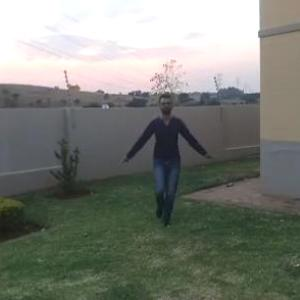land: (124, 97, 209, 218)
